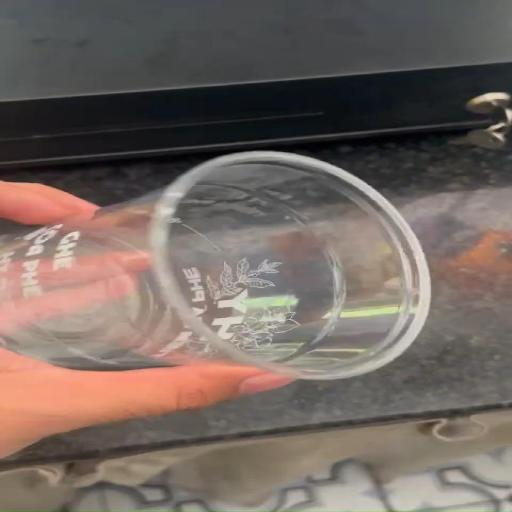ly_giay: (1, 151, 430, 379)
